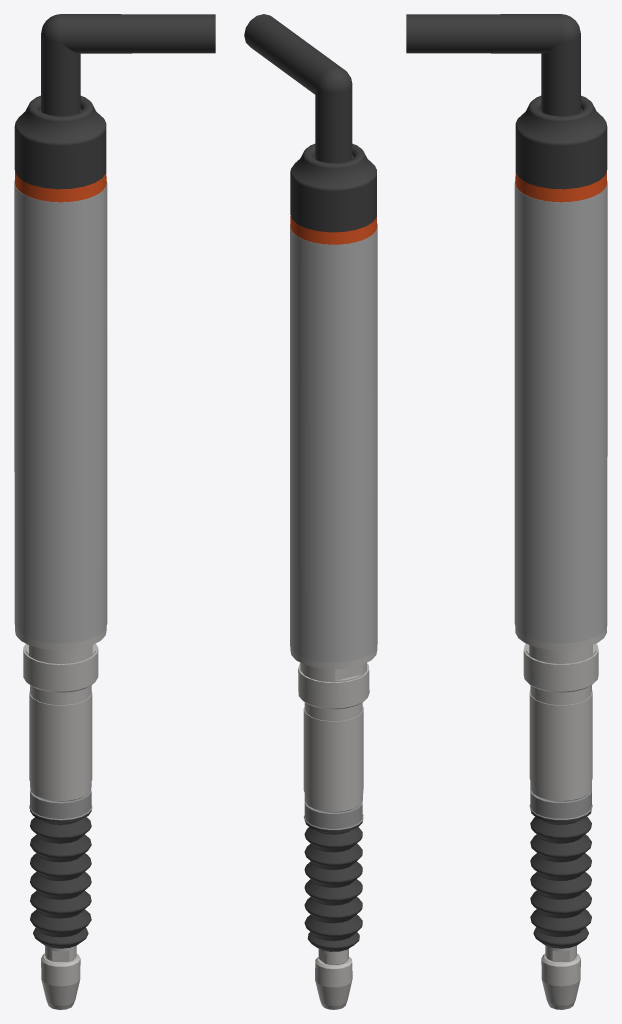
The model's file is GAGE-HEAD.glb.
The picture shows the model from 3 angles, left to right: view 1: azimuth 90°, elevation 25°; view 2: azimuth 210°, elevation 25°; view 3: azimuth 270°, elevation 25°; orthographic projection. The views are drawn at different scales.
Parts seen in each view (by area): view 1: Solid1; view 2: Solid1; view 3: Solid1.
Boxes of the visible parts, bbox=[...] form: Solid1: bbox=[14, 14, 215, 1009]; Solid1: bbox=[244, 14, 377, 1009]; Solid1: bbox=[406, 14, 607, 1009].
Size of the model in its own units: 0.0117 by 0.138 by 0.0254.
